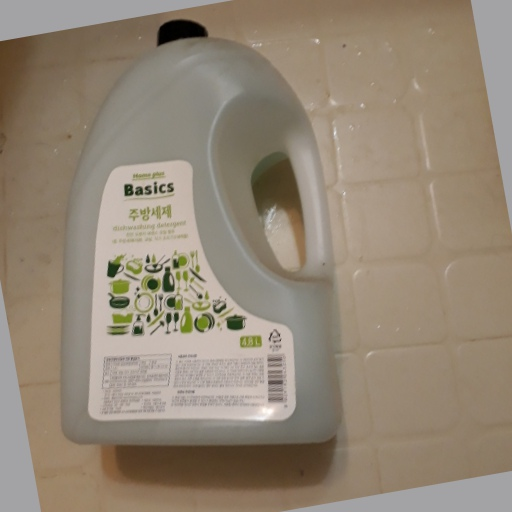Plastic_1: (65, 19, 337, 450)
